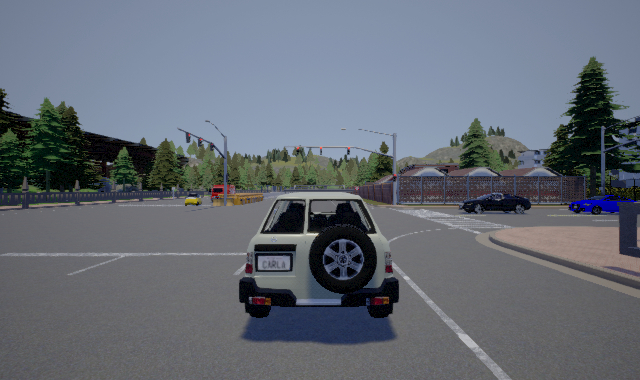traffic_light: (186, 132, 191, 143), (198, 137, 203, 147), (210, 142, 214, 151), (393, 174, 396, 182), (347, 147, 350, 155), (320, 147, 322, 155), (297, 147, 299, 155)
vehicle: (239, 192, 399, 318), (458, 194, 531, 214), (568, 195, 637, 215), (211, 183, 236, 199), (185, 193, 203, 205)
